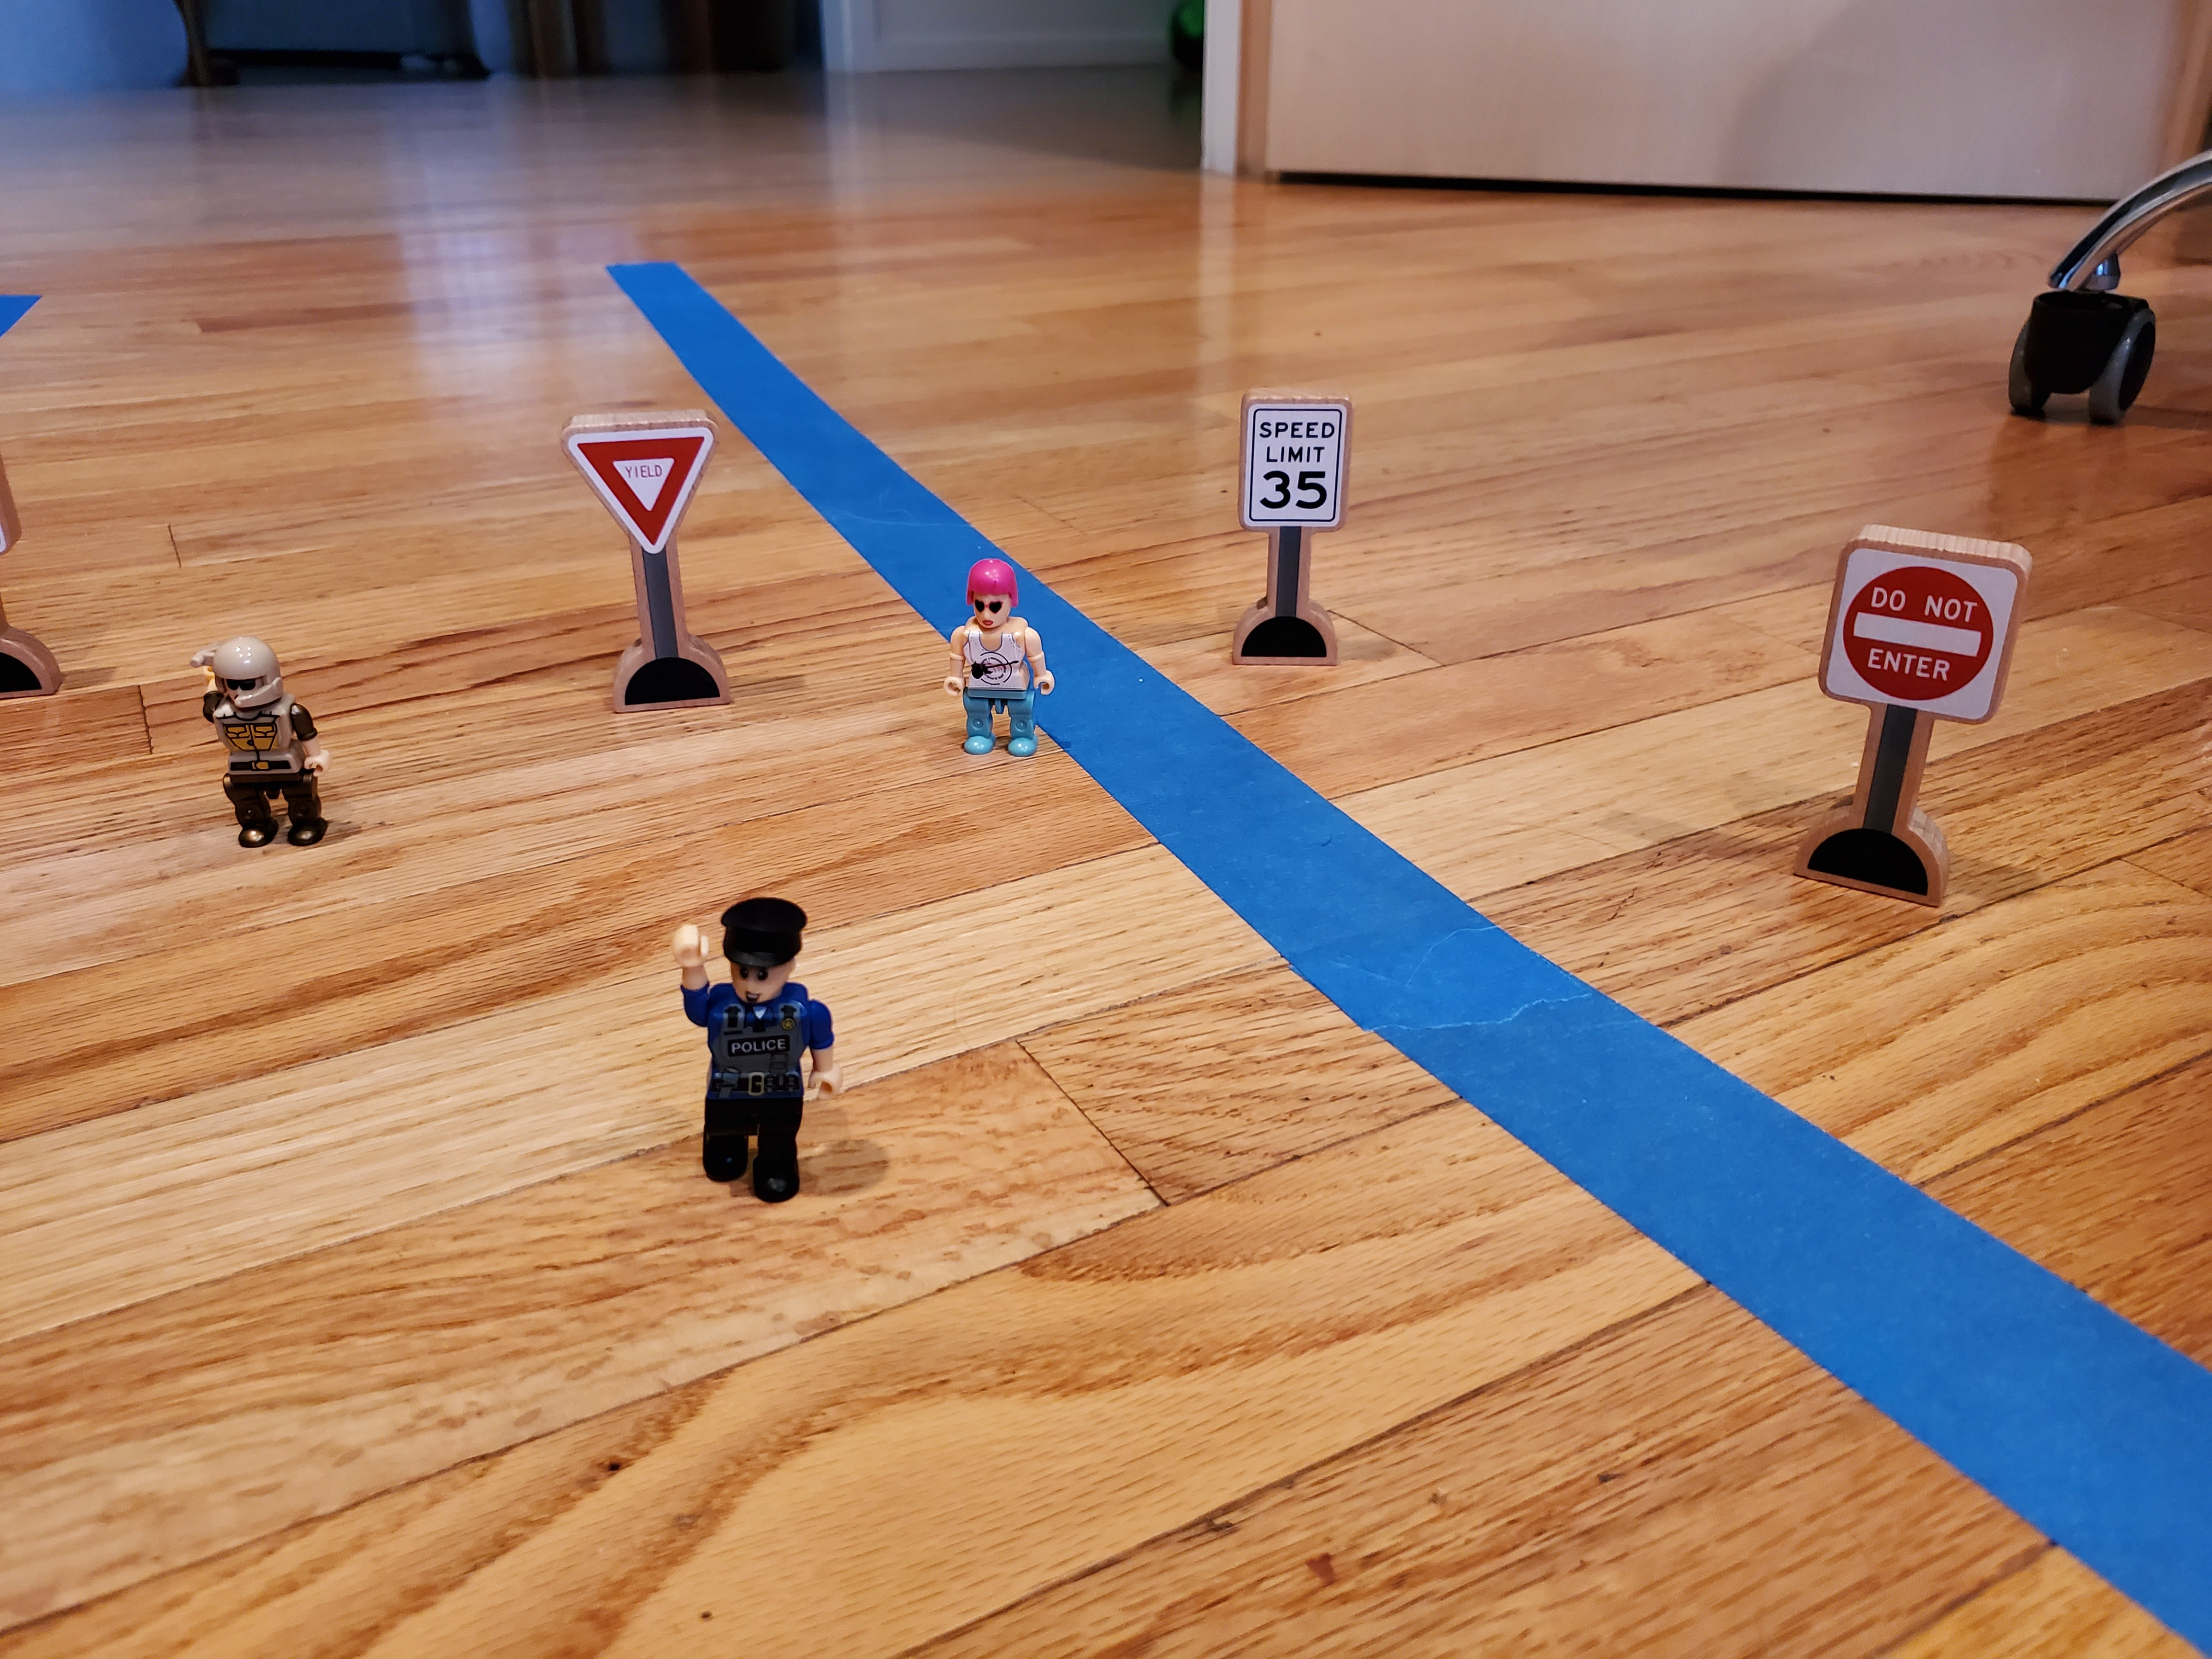Do Not Enter: (1829, 517, 2030, 733)
Speed Limit 35: (1236, 378, 1356, 540)
Yield Sign: (561, 404, 721, 562)
person: (666, 887, 837, 1215), (183, 628, 349, 846), (929, 546, 1058, 768)
